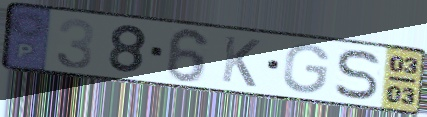3: (55, 17, 97, 70)
6: (163, 27, 211, 85)
8: (106, 22, 148, 75)
G: (281, 42, 332, 96)
K: (218, 33, 263, 90)
S: (332, 48, 383, 102)
